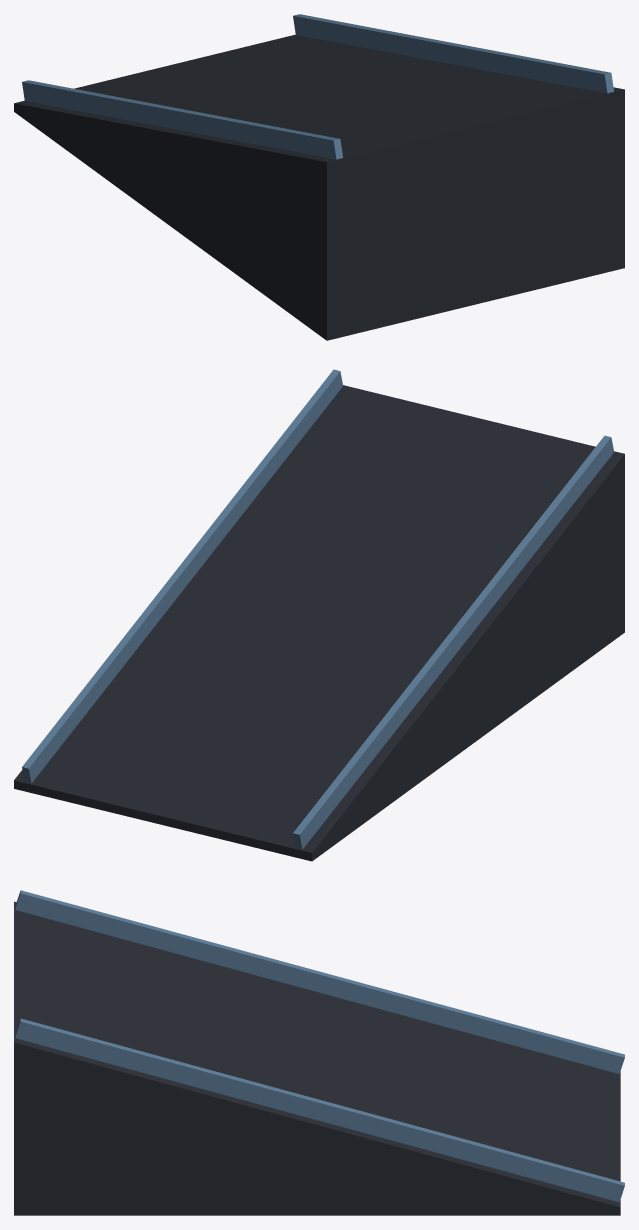
Rendered from road_future_ramp_lod2.glb.
3 views of the same model, one above another, from view 1: azimuth 30°, elevation 25°; view 2: azimuth 150°, elevation 25°; view 3: azimuth 270°, elevation 25° (orthographic). The views are drawn at different scales.
Parts seen in each view (by area): view 1: body; view 2: body; view 3: body.
Boxes of the visible parts, box(x1,y1,x2,y2) form: body: box(14, 14, 624, 340); body: box(14, 369, 624, 861); body: box(14, 890, 624, 1215).
Size of the model in its own units: 4.4 by 2.75 by 8.06.
